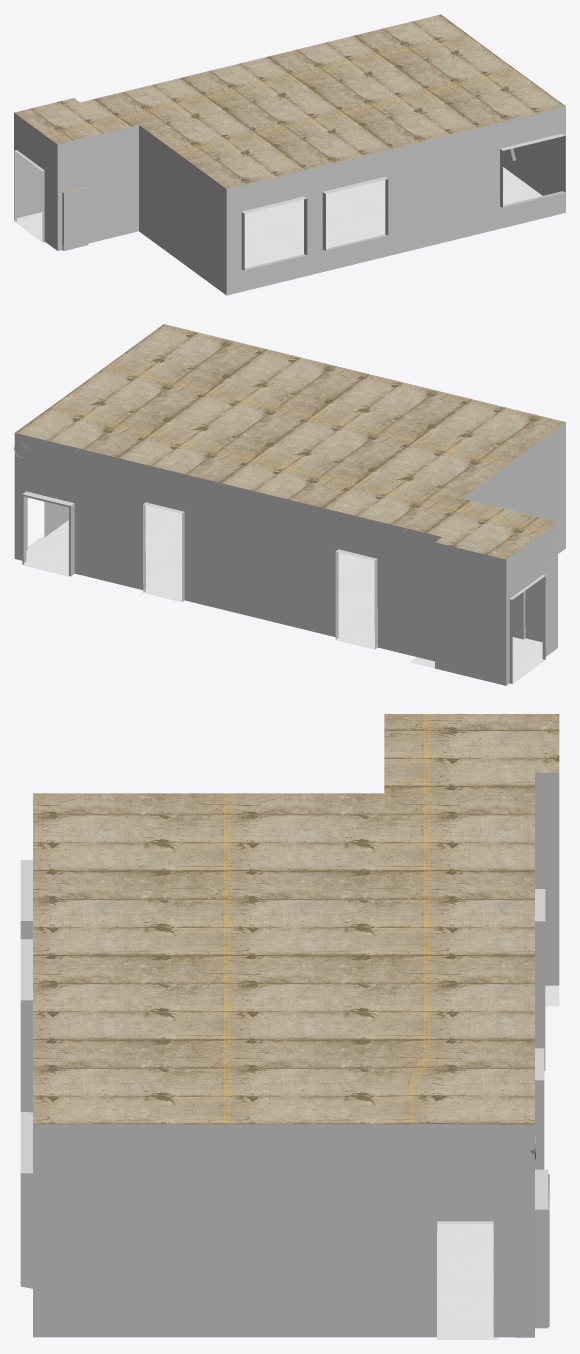
Rendered from CESI_gaines.fbx.
3 renders of one model, top to bottom at view 1: azimuth 30°, elevation 25°; view 2: azimuth 150°, elevation 25°; view 3: azimuth 270°, elevation 25°, orthographic. The views are drawn at different scales.
Visible parts, largest first — view 1: COFFRE_IMPORTANT; view 2: COFFRE_IMPORTANT; view 3: COFFRE_IMPORTANT.
Part boxes in pixels (box(x1,y1,x2,y2)): COFFRE_IMPORTANT: box(14, 14, 565, 295); COFFRE_IMPORTANT: box(14, 324, 565, 685); COFFRE_IMPORTANT: box(20, 714, 559, 1339).
Size of the model in its own units: 1576 by 377 by 864.
